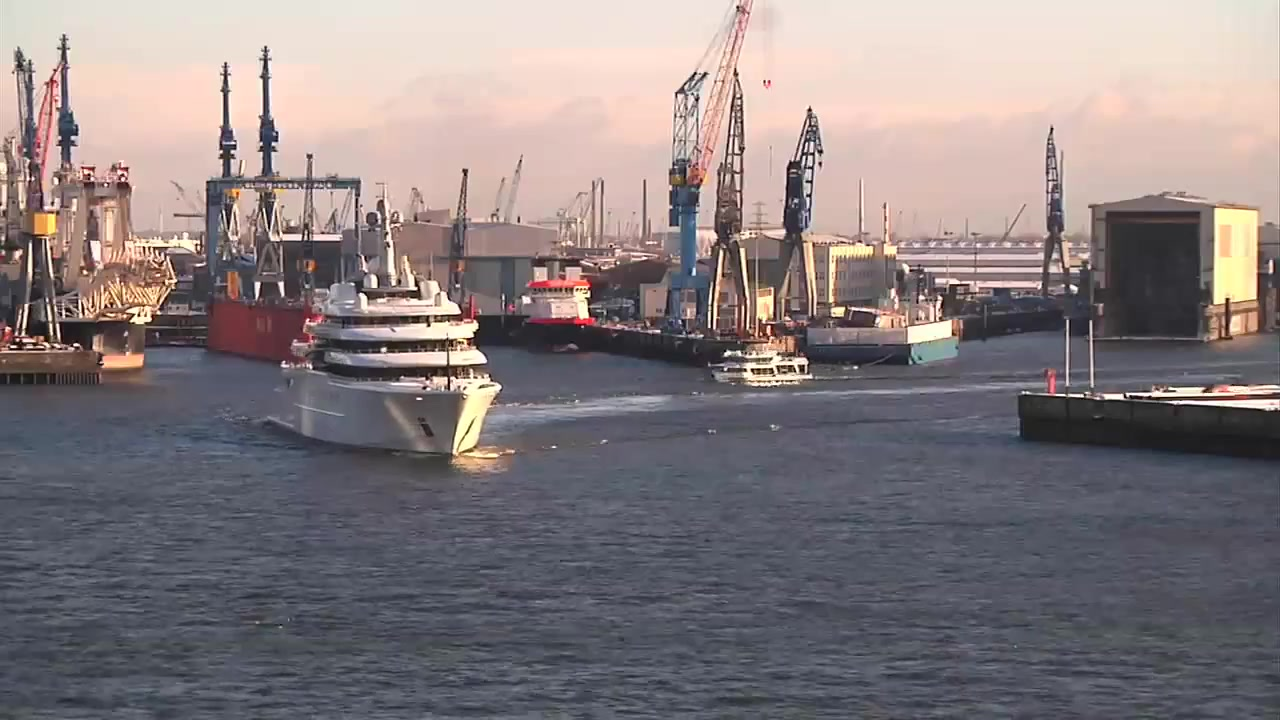boat: (267, 181, 504, 460)
